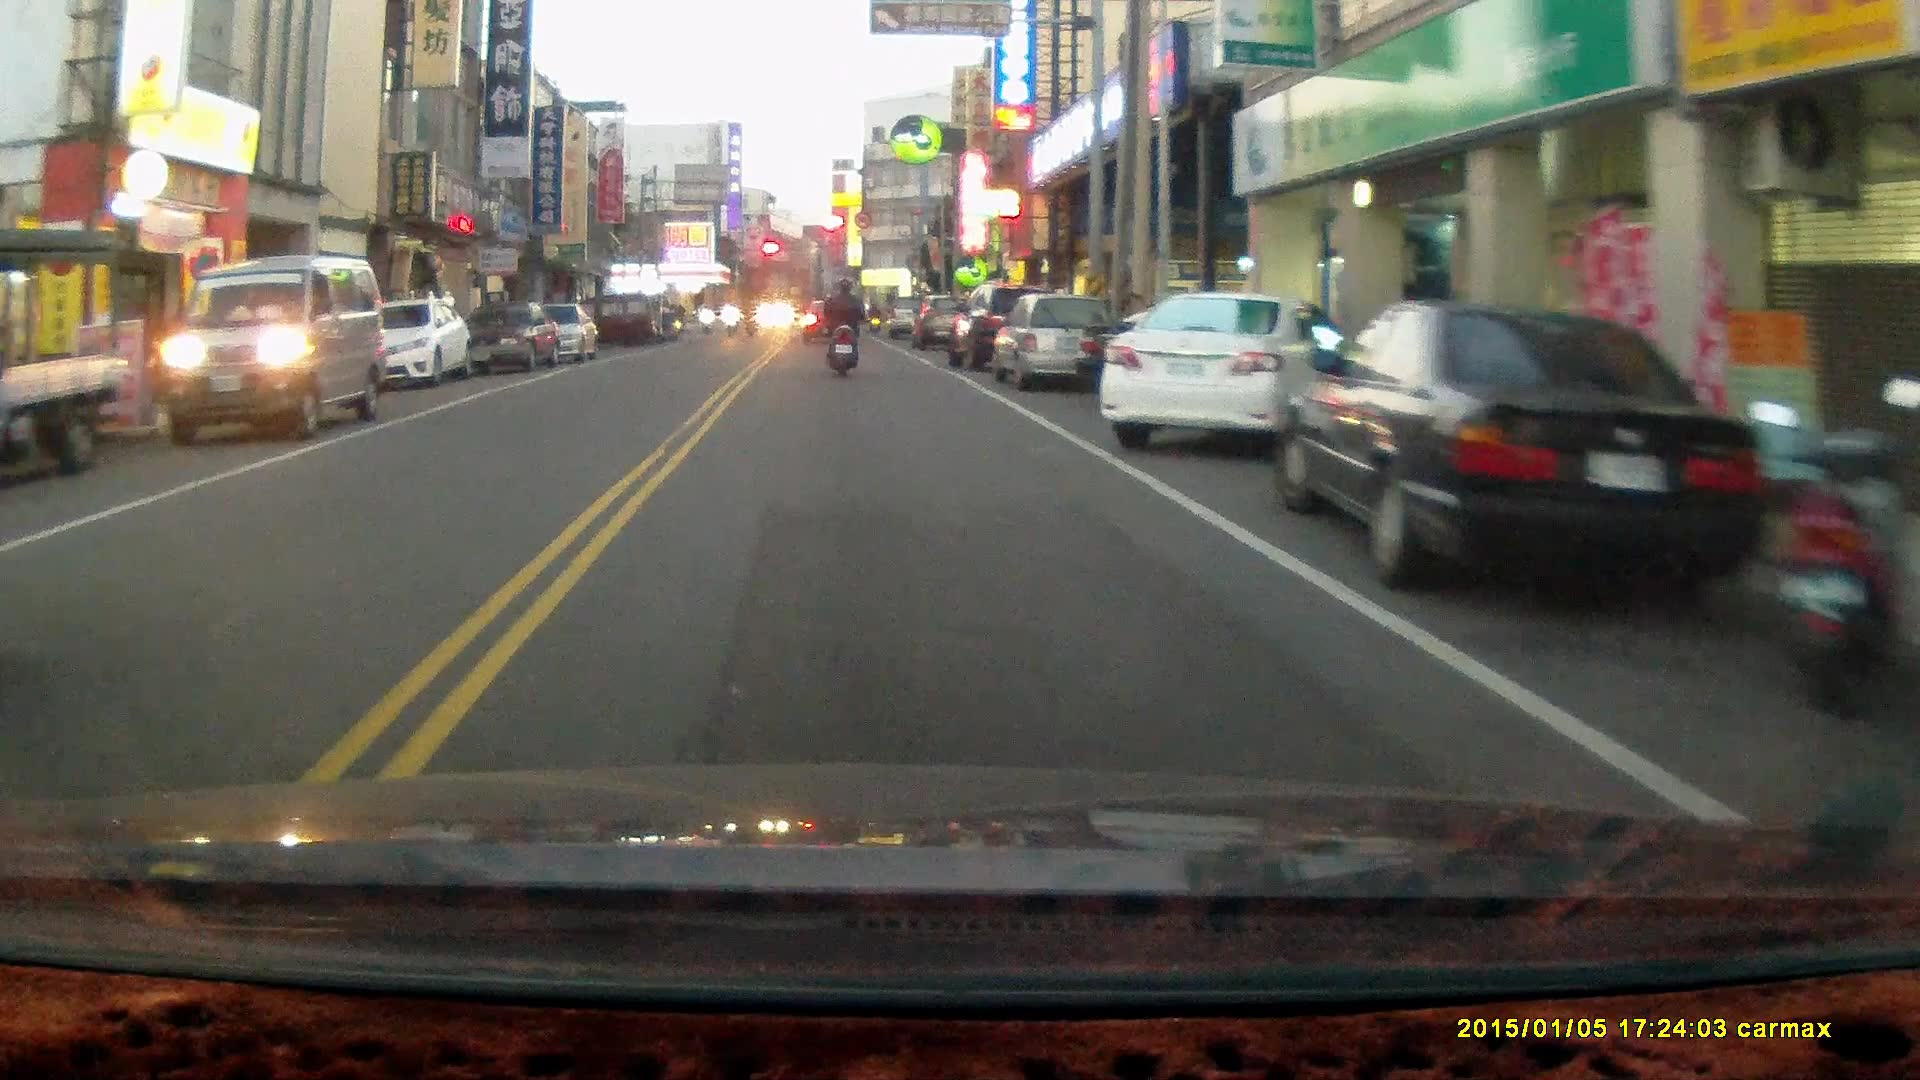rider: (821, 276, 867, 379)
vehicle: (1277, 300, 1810, 591), (168, 257, 390, 443), (1100, 289, 1343, 454), (0, 224, 124, 478), (990, 292, 1121, 392), (358, 299, 475, 390)
